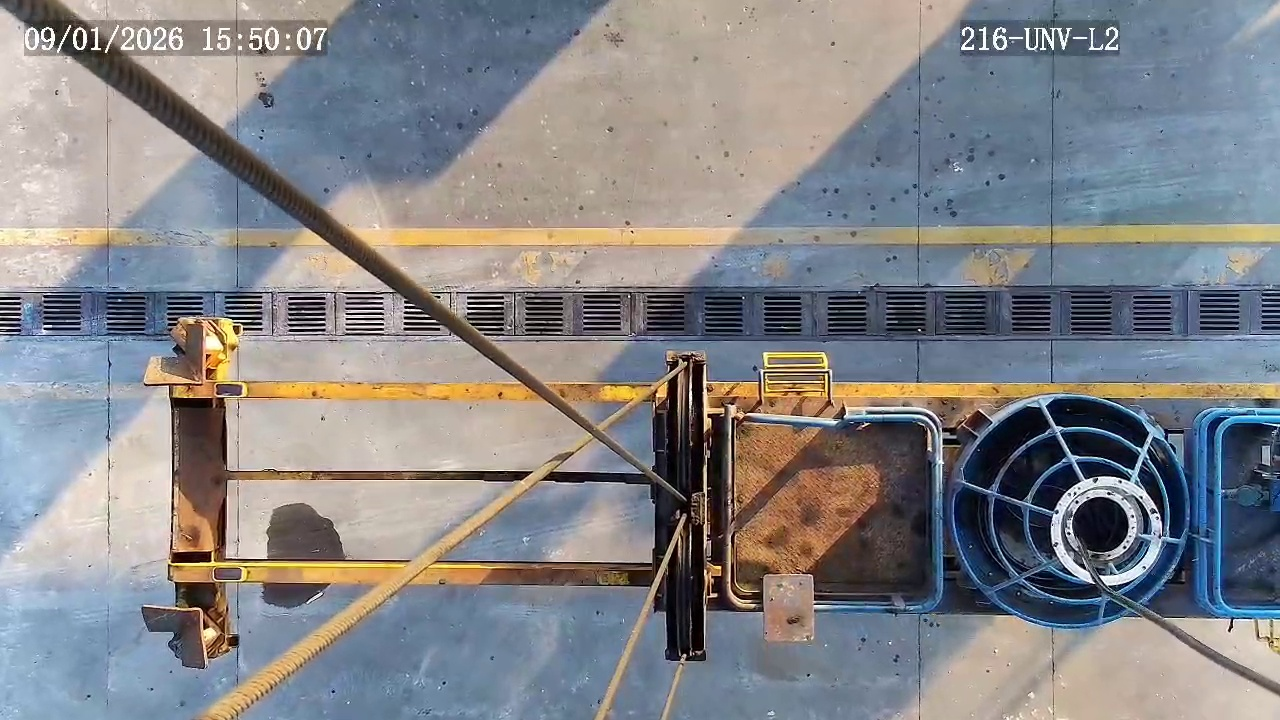left: (1052, 476, 1161, 586)
